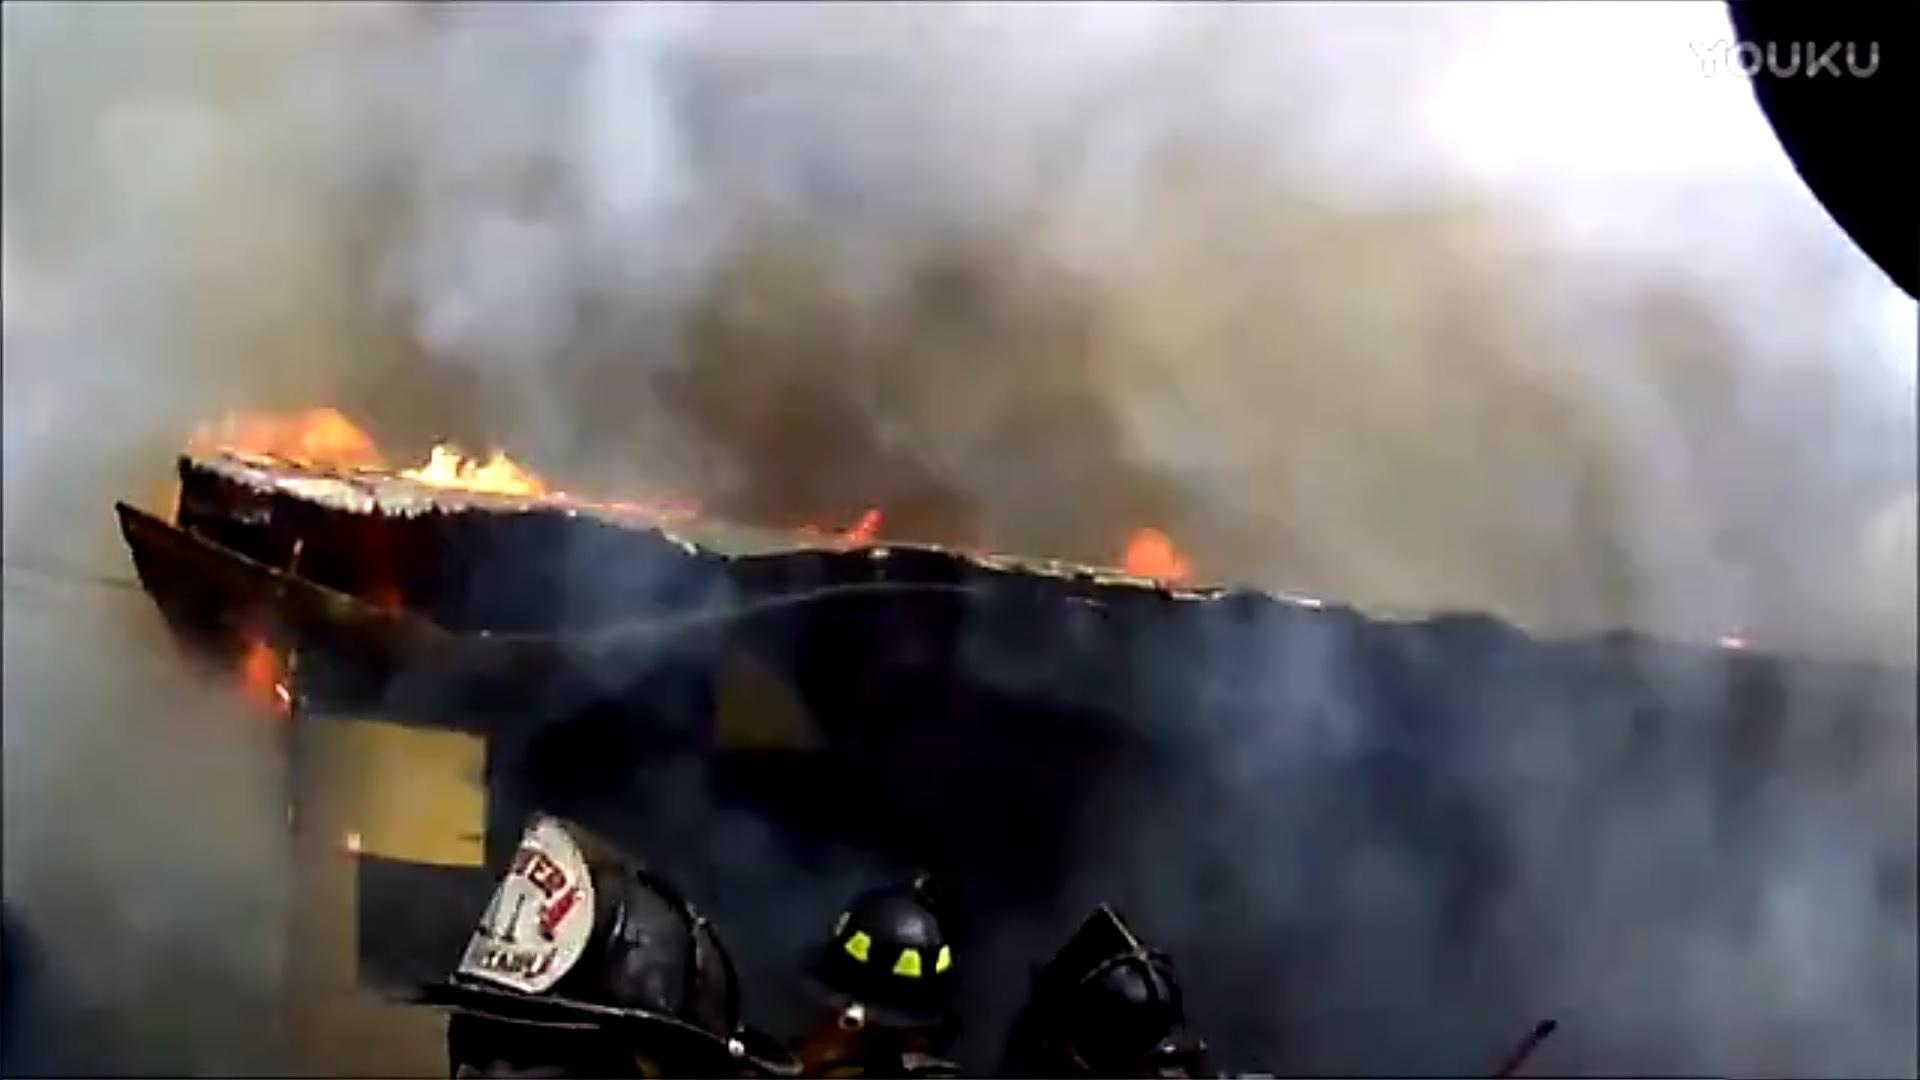fire: (237, 632, 291, 704)
